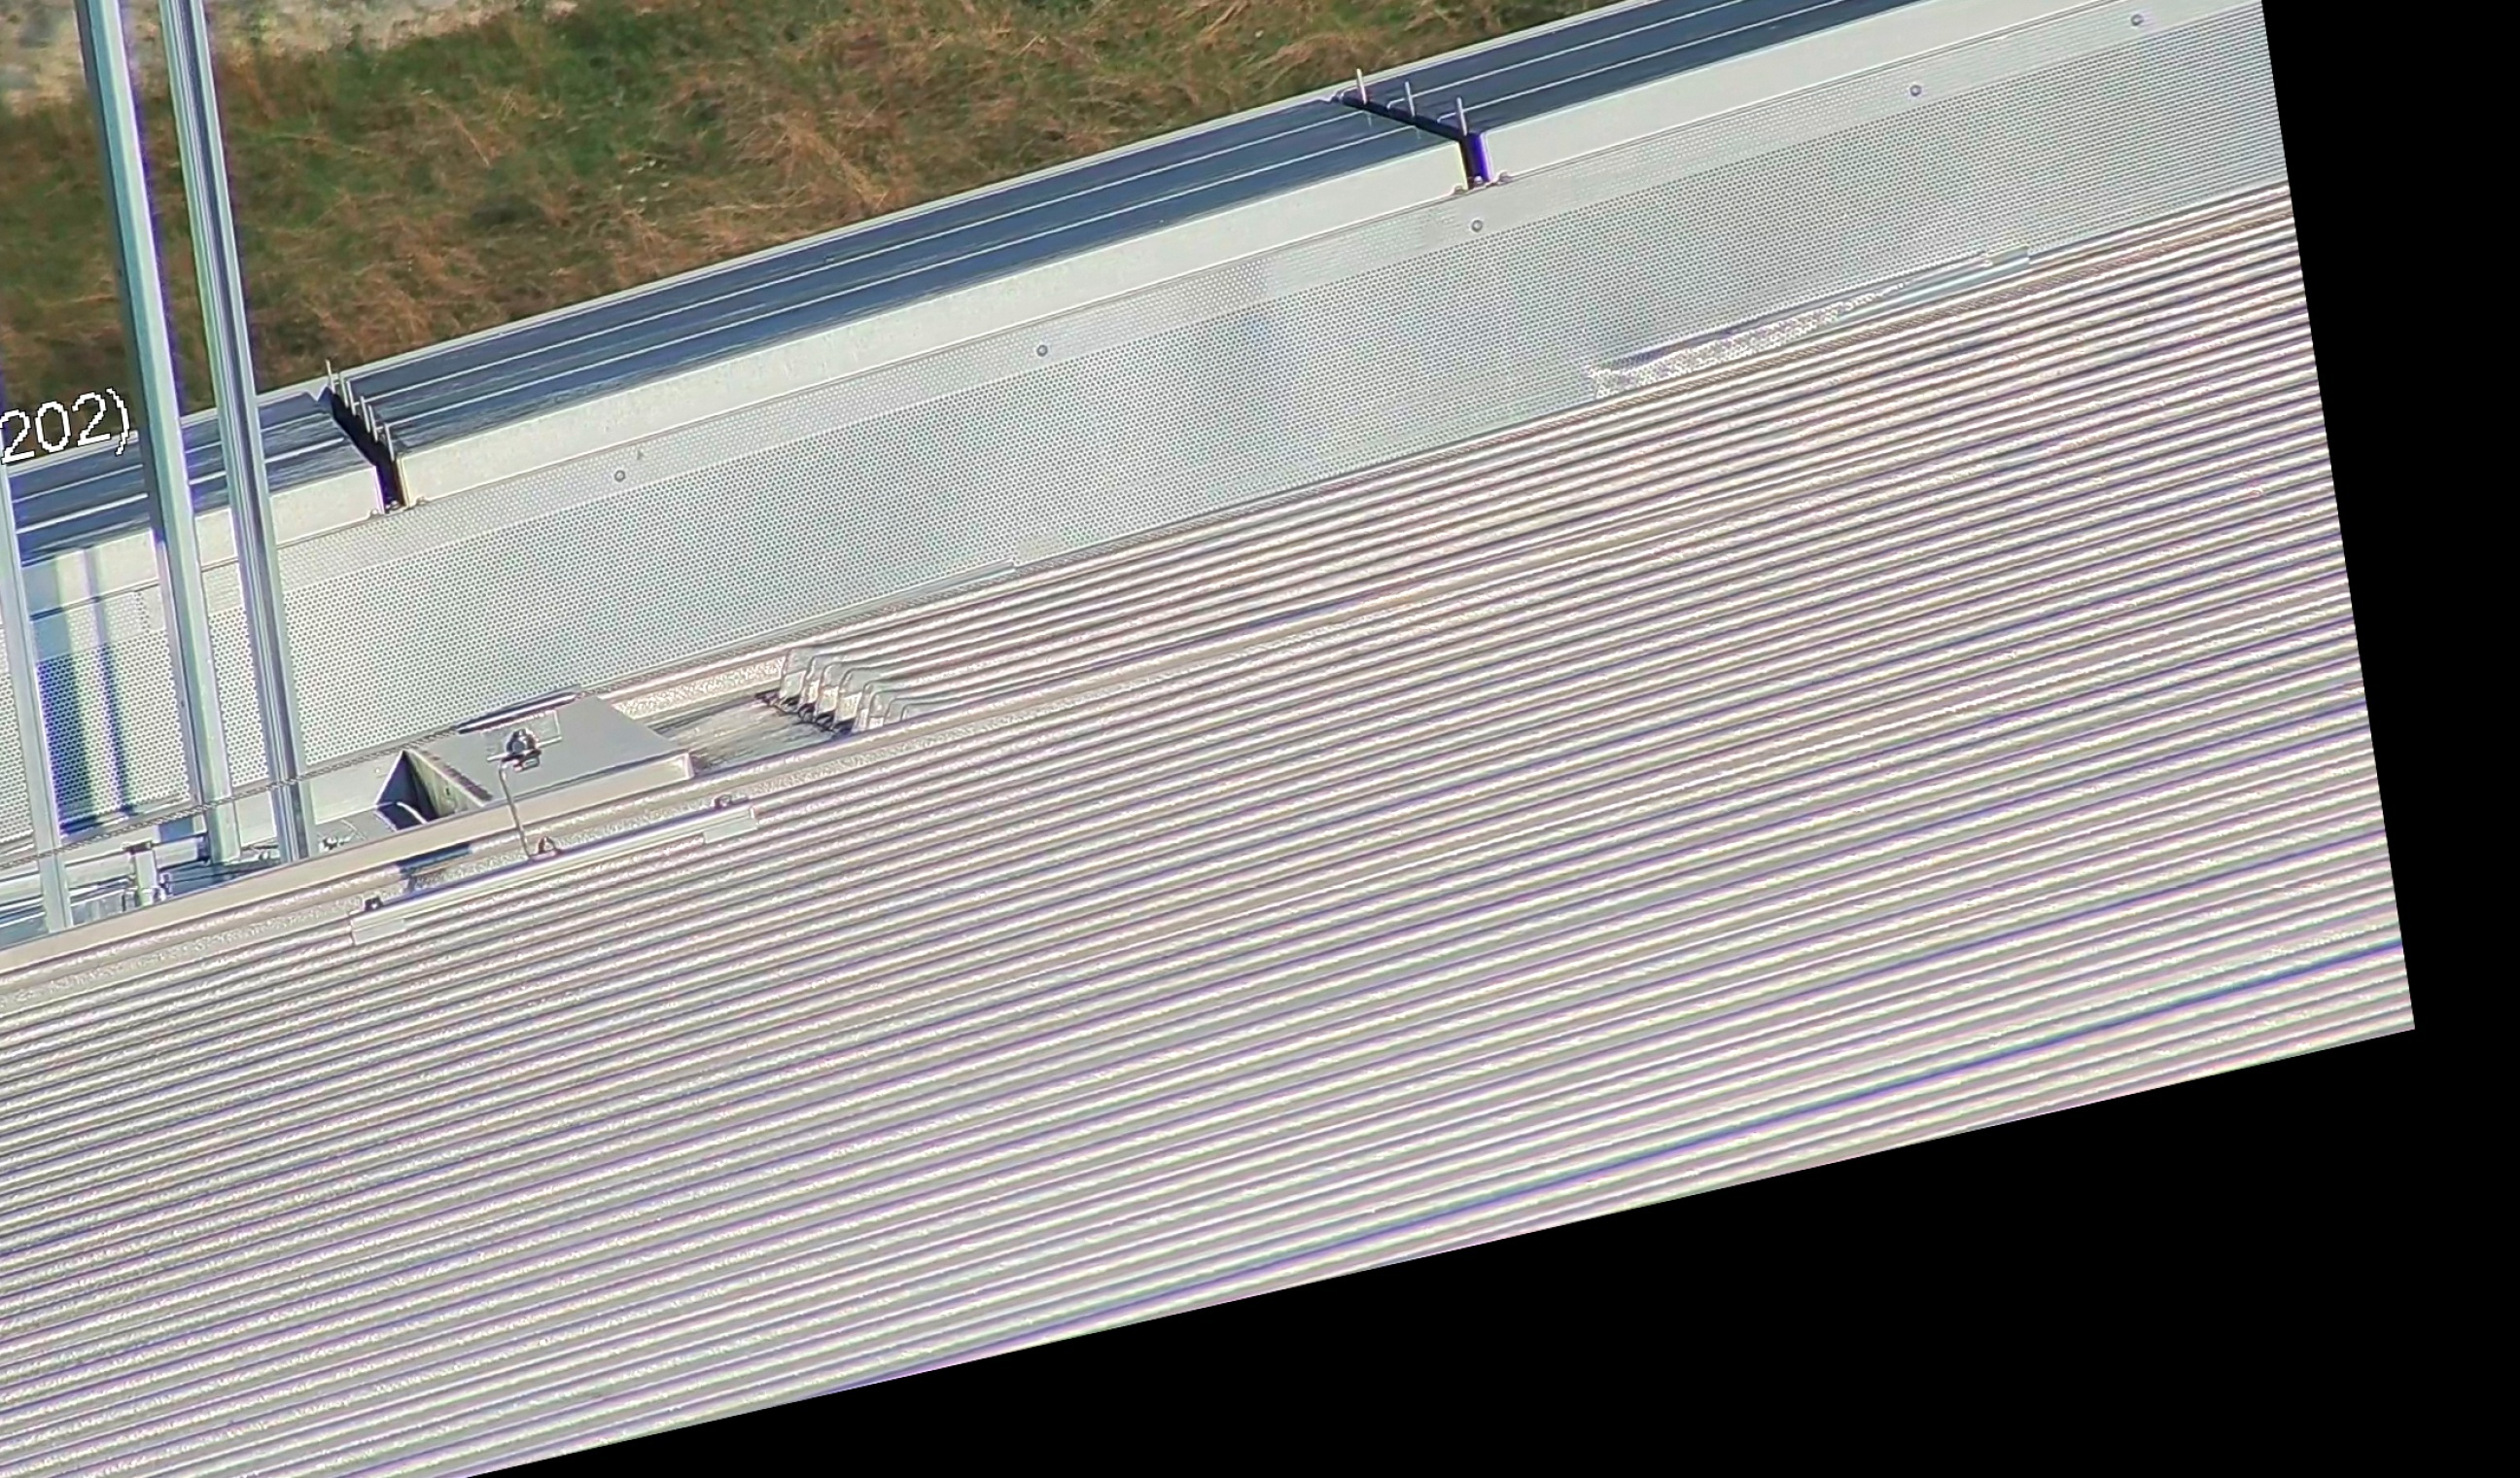Other: (292, 340, 426, 526)
